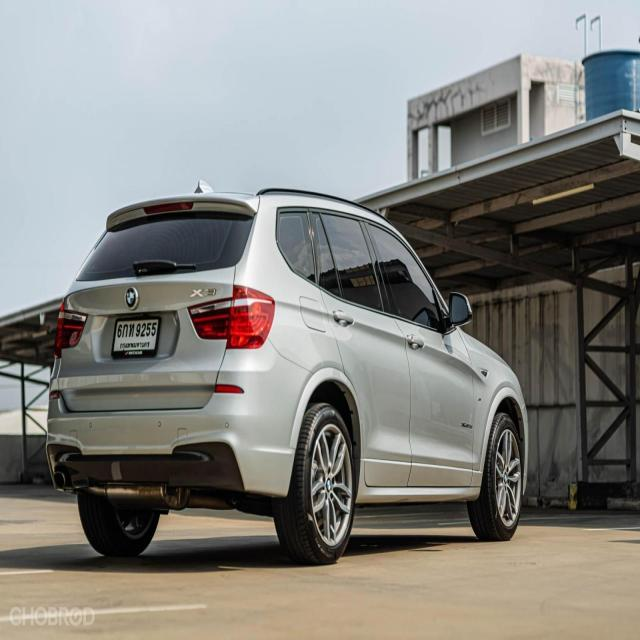license_plate: (110, 310, 164, 363)
